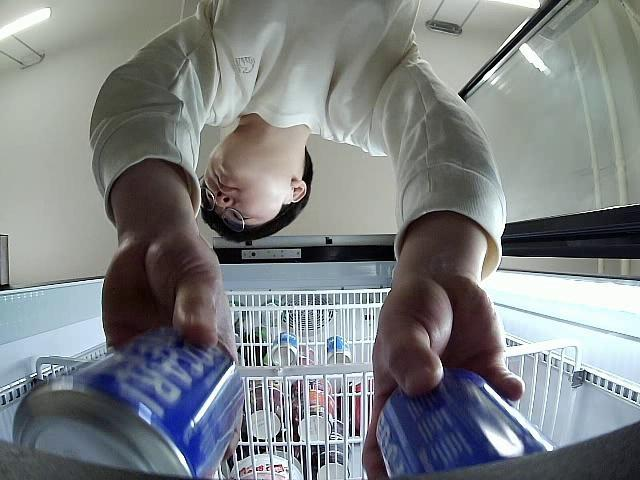13_pocariSweat: (12, 327, 246, 480), (375, 369, 556, 480)
